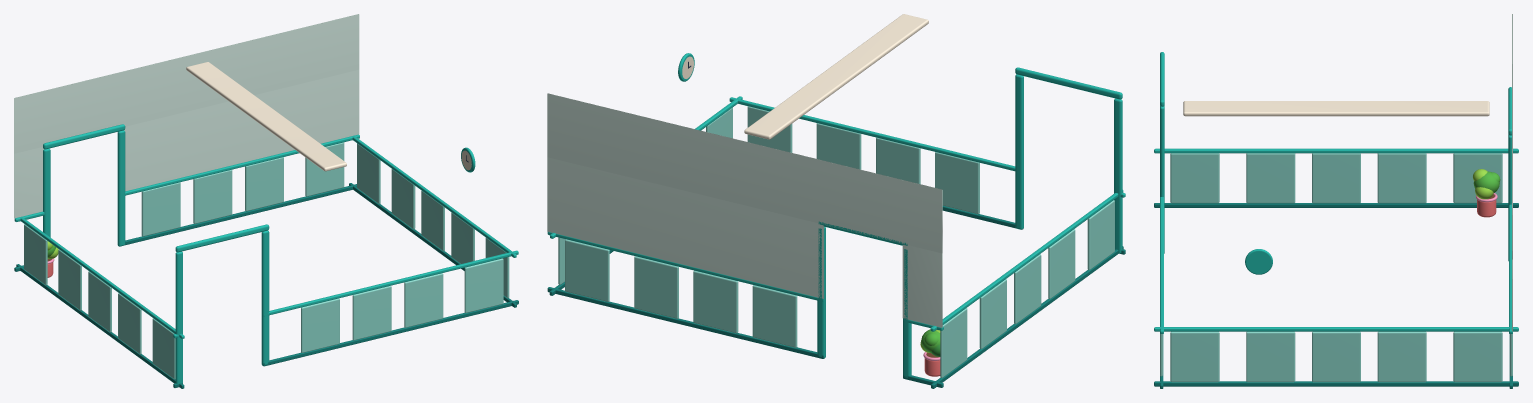
File: BackRoomDressing.fbx
3 views of the same model, side by side, from view 1: azimuth 30°, elevation 25°; view 2: azimuth 150°, elevation 25°; view 3: azimuth 270°, elevation 25° (orthographic). The views are drawn at different scales.
Visible parts, largest first — view 1: BackRoomDressing mesh; view 2: BackRoomDressing mesh; view 3: BackRoomDressing mesh.
Boxes of the visible parts, x1,y1,x2,y2 form: BackRoomDressing mesh: (14,14,518,388); BackRoomDressing mesh: (547,14,1125,388); BackRoomDressing mesh: (1154,14,1518,388).
Bounding box in the file's own units: 7.5 × 3.6 × 6.25.
